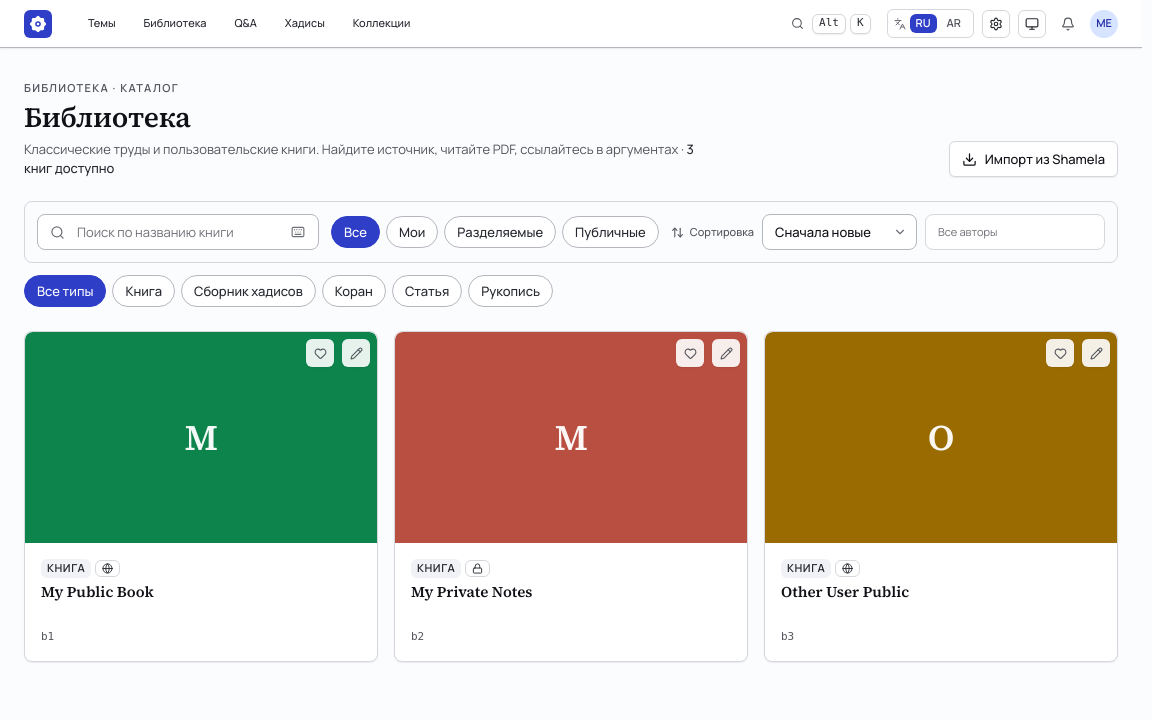
Scenario: BookListPage / Library overview › «Мои» фильтр - strict createdBy === currentUser.id (не visibility approximation)
The width and height of the screenshot is (1152, 720).
Expected: the heading "My Public Book" is shown, [41, 581, 154, 602]
Expected: the heading "Other User Public" is shown, [781, 581, 909, 602]
Click the button "Мои". click: [412, 232]
box: [386, 216, 438, 248]
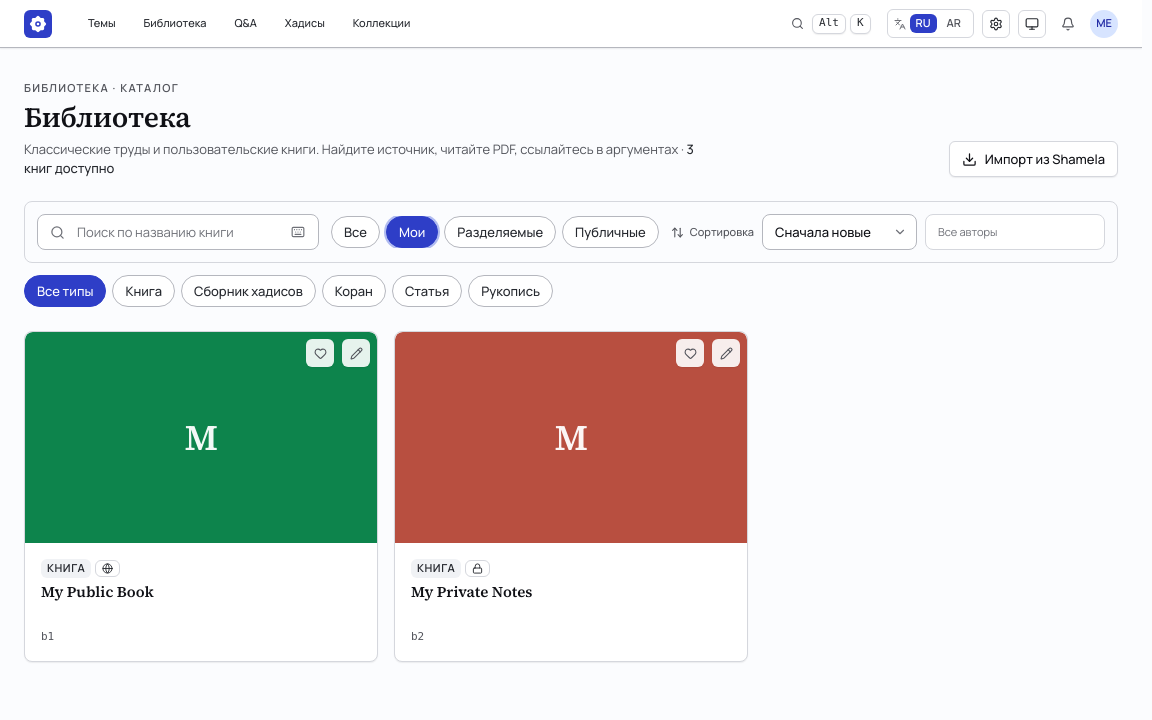
Expected: the heading "My Public Book" is shown, [41, 581, 154, 602]
Now the link "Other User Public" is gone
# обратно на «Все»
Click the button "Все". click: [355, 232]
box: [331, 216, 380, 248]
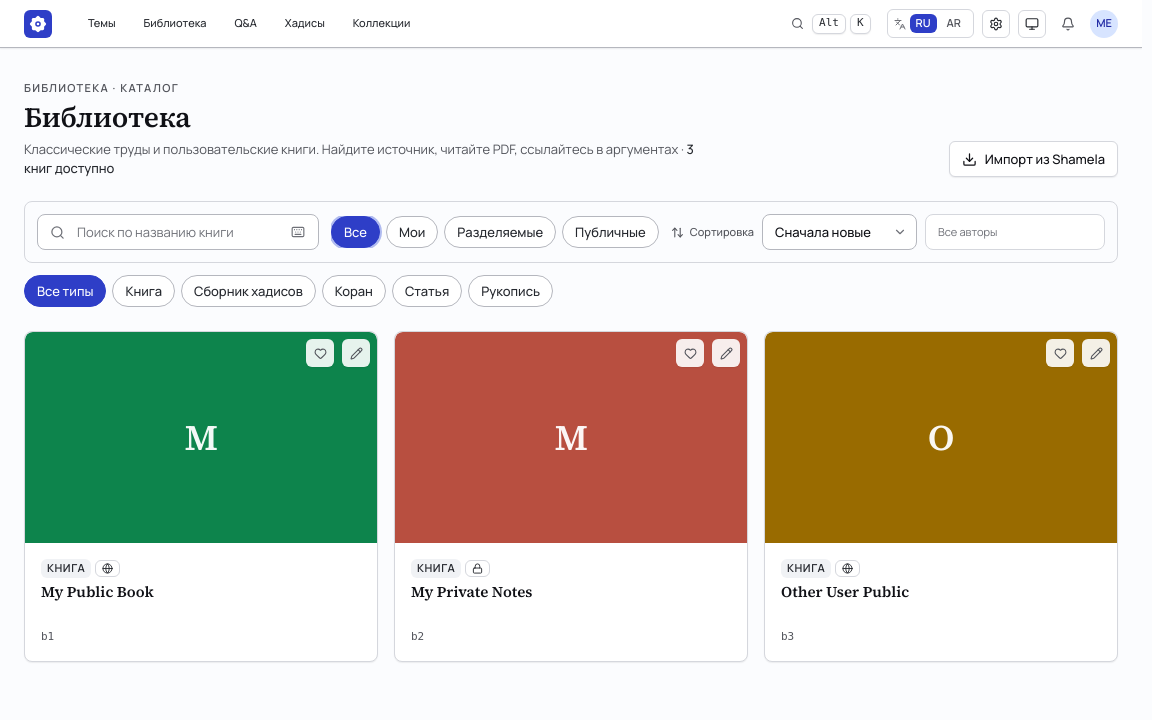
Expected: the heading "My Public Book" is shown, [41, 581, 154, 602]
Now the heading "Other User Public" is shown, box [781, 581, 909, 602]
